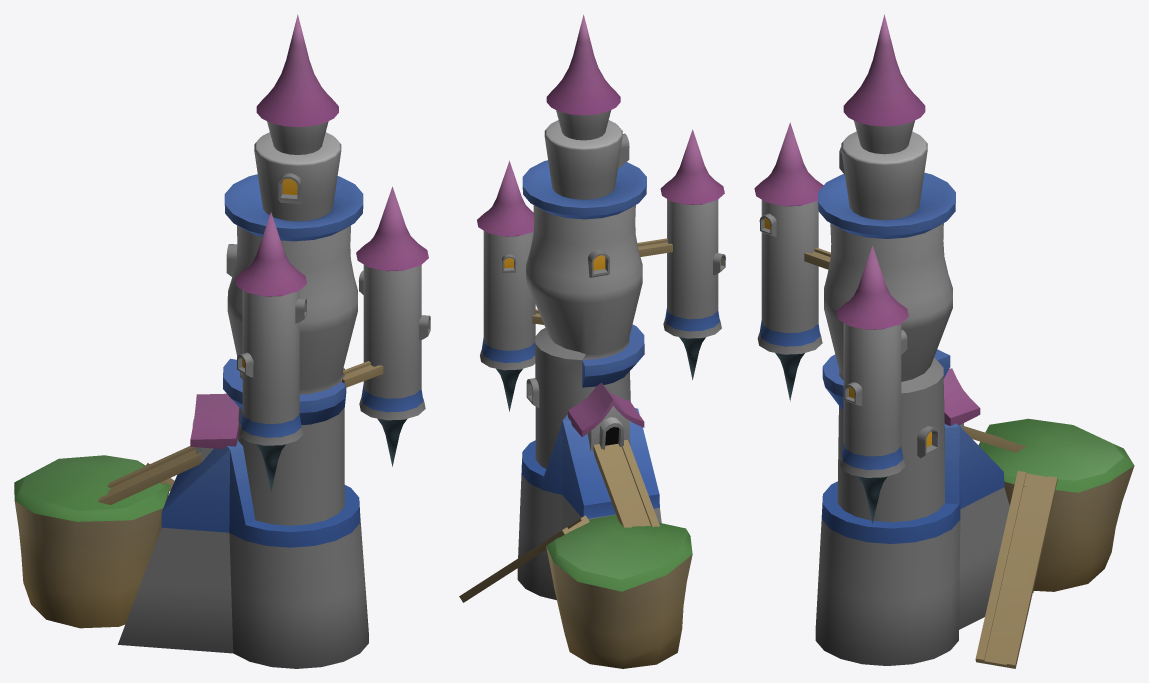
The model's file is OBJ_WizardTowerModel.fbx.
3 renders of one model, left to right at view 1: azimuth 30°, elevation 25°; view 2: azimuth 150°, elevation 25°; view 3: azimuth 270°, elevation 25°, orthographic. The views are drawn at different scales.
Visible parts, largest first — view 1: OBJ_WizardTowerModel; view 2: OBJ_WizardTowerModel; view 3: OBJ_WizardTowerModel.
Part boxes in pixels (x1=…): OBJ_WizardTowerModel: x1=14, y1=14, x2=430, y2=668; OBJ_WizardTowerModel: x1=459, y1=14, x2=725, y2=668; OBJ_WizardTowerModel: x1=754, y1=14, x2=1134, y2=668.
Size of the model in its own units: 60.47 by 116 by 64.08.
